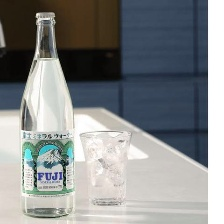bottle: (17, 8, 79, 220)
glass: (77, 126, 135, 206)
